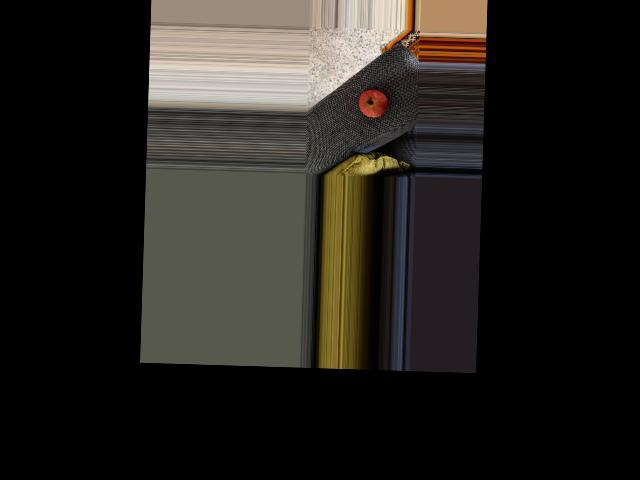apple: (360, 87, 392, 122)
